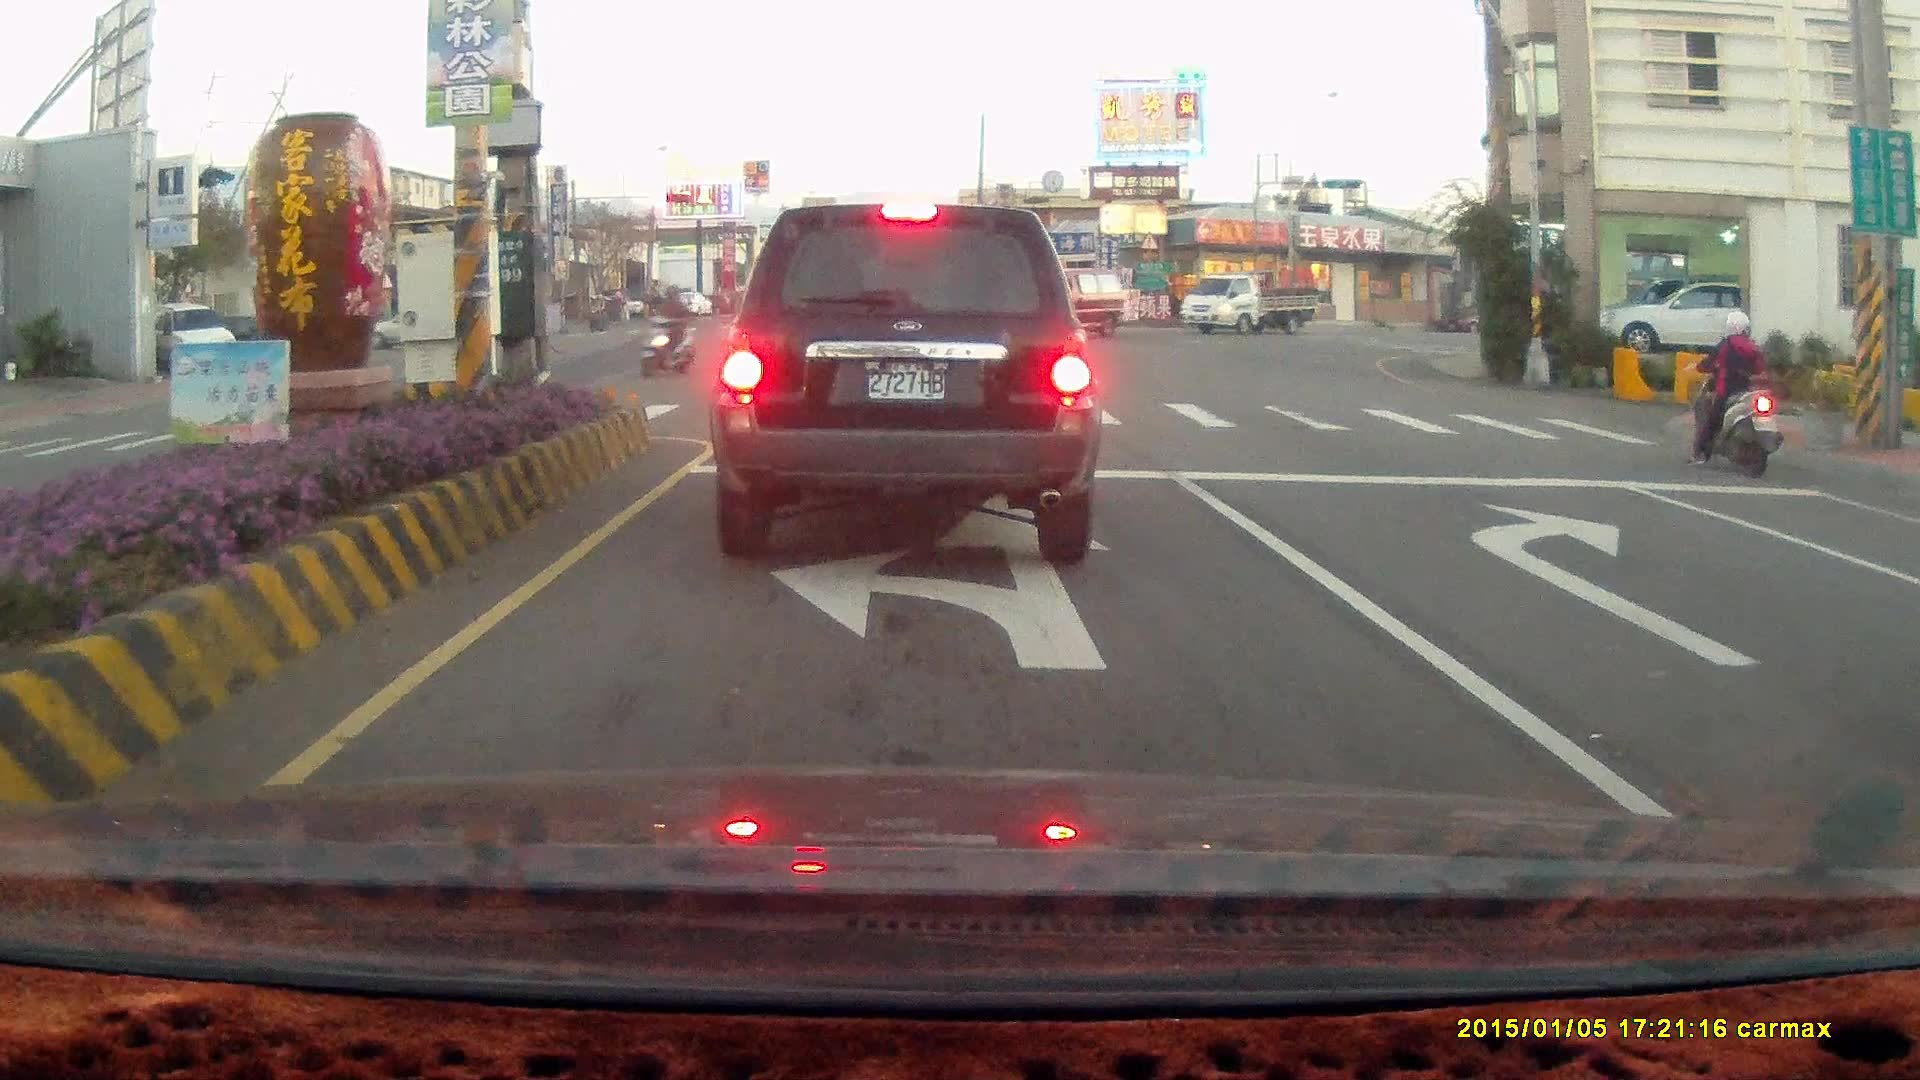rider: (1690, 308, 1784, 475), (637, 284, 698, 377), (584, 290, 609, 330)
vehicle: (707, 202, 1102, 566), (1588, 275, 1790, 354), (995, 266, 1128, 342), (1604, 279, 1740, 351), (995, 265, 1127, 338), (1179, 275, 1322, 342), (126, 299, 237, 380), (1896, 493, 1920, 836), (1883, 528, 1920, 690)
